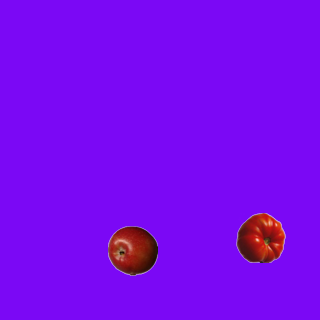Apple Braeburn: (107, 225, 157, 275)
Tomato 3: (235, 212, 285, 262)
